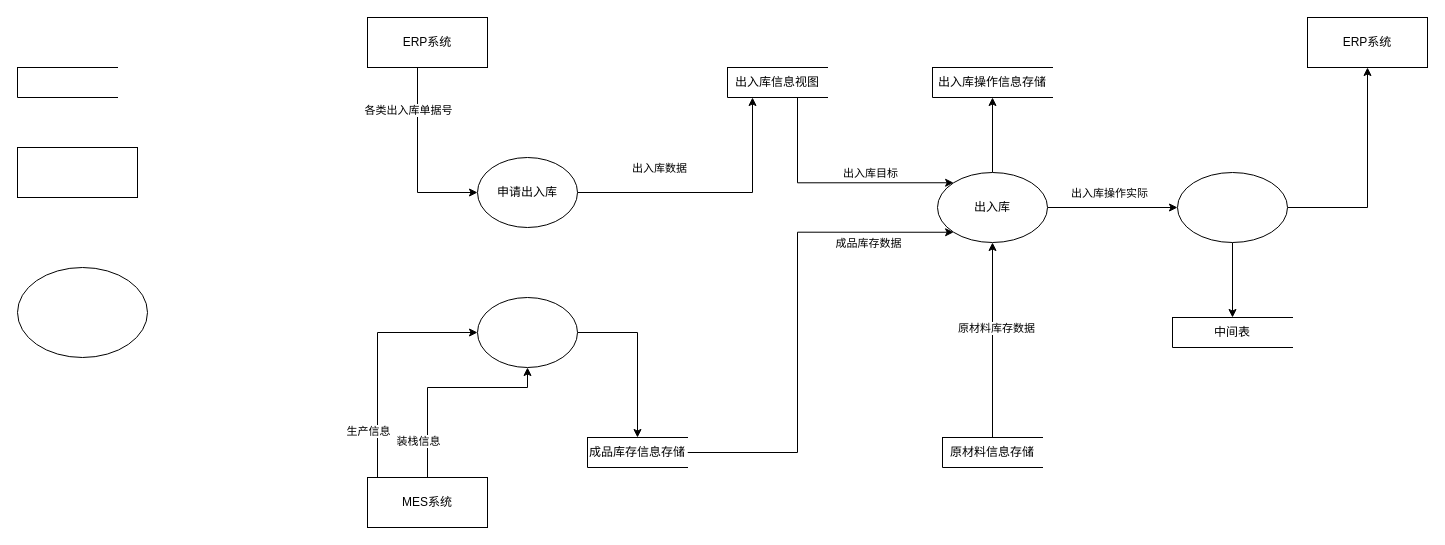
Some shapes in this 1445 by 545 pixel diagram are drawn without their labels. Here are the shapes that lost their labels. From the top down, the centre of each, then its label:
At pixel 1232 207: "通知ERP本单据的实际出入库情况".
At pixel 527 332: "成品入库".
